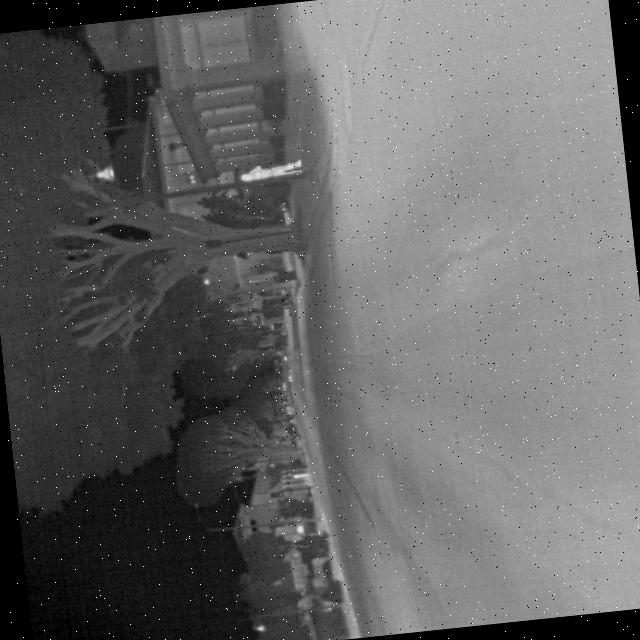Pedestrian: (236, 156, 307, 182)
